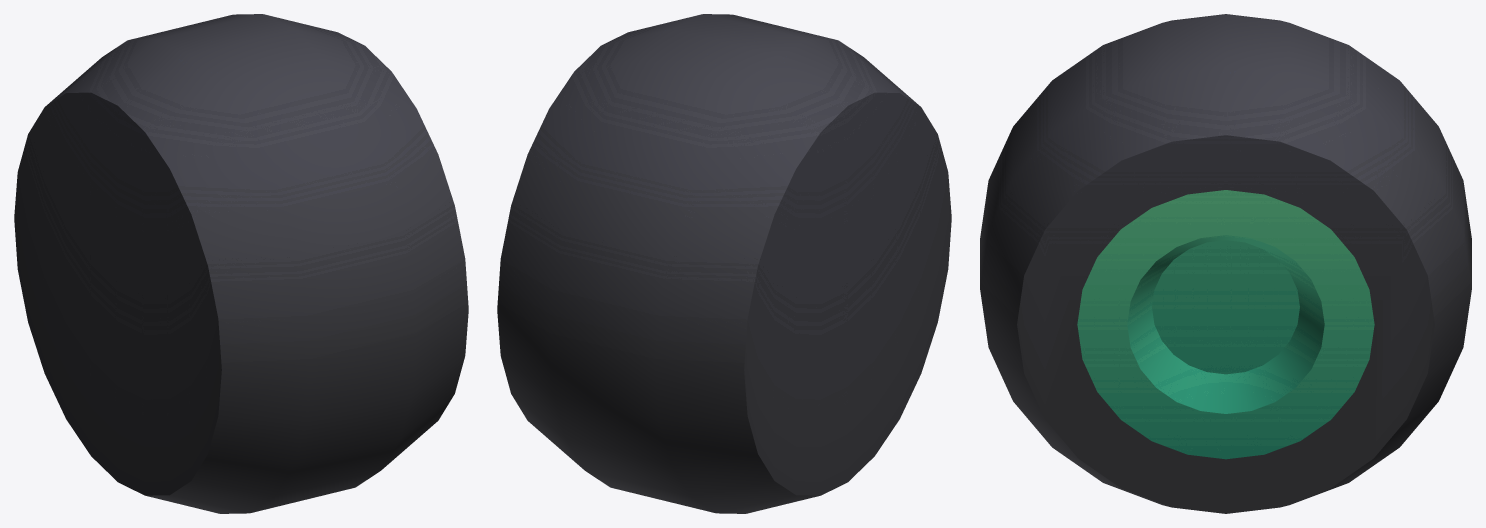
Rendered from GreenWheel.glb.
3 renders of one model, left to right at view 1: azimuth 30°, elevation 25°; view 2: azimuth 150°, elevation 25°; view 3: azimuth 270°, elevation 25°, orthographic.
Visible parts, largest first — view 1: wheel-front-left; view 2: wheel-front-left; view 3: wheel-front-left.
Part boxes in pixels (bbox=[...]): wheel-front-left: bbox=[14, 14, 468, 513]; wheel-front-left: bbox=[497, 14, 951, 513]; wheel-front-left: bbox=[980, 14, 1471, 513].
Bounding box in the file's own units: 0.35 × 0.6 × 0.6.
Materials: 1 (1 with a texture image).
